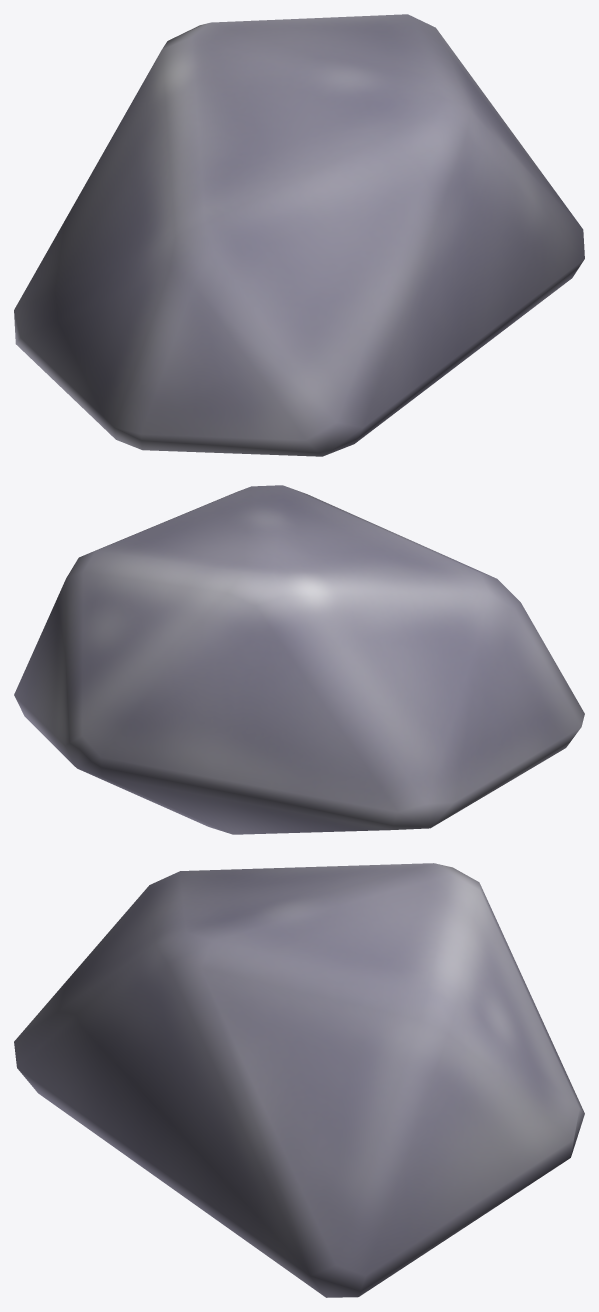
Rendered from small_rock.glb.
The picture shows the model from 3 angles, top to bottom: view 1: azimuth 30°, elevation 25°; view 2: azimuth 150°, elevation 25°; view 3: azimuth 270°, elevation 25°; orthographic projection. The views are drawn at different scales.
Visible parts, largest first — view 1: Cube; view 2: Cube; view 3: Cube.
Part boxes in pixels (<box>): Cube: <box>14,14,584,456</box>; Cube: <box>14,485,584,834</box>; Cube: <box>14,863,584,1297</box>.
Size of the model in its own units: 0.1985 by 0.1168 by 0.1763.
1 material, 1 textured.
